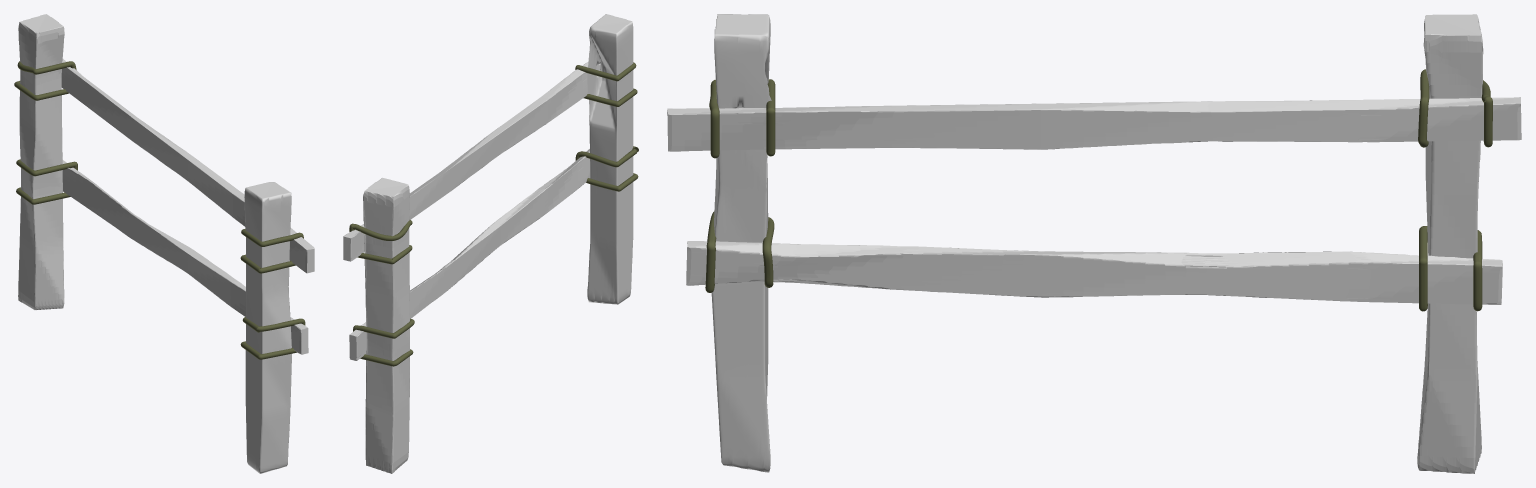
File: Blender_fence_v5.fbx
3 views of the same model, side by side, from view 1: azimuth 30°, elevation 25°; view 2: azimuth 150°, elevation 25°; view 3: azimuth 270°, elevation 25° (orthographic). The views are drawn at different scales.
Parts seen in each view (by area): view 1: Cube.003; view 2: Cube.003; view 3: Cube.003.
Boxes of the visible parts, x1,y1,x2,y2 form: Cube.003: [14, 14, 314, 473]; Cube.003: [343, 14, 638, 473]; Cube.003: [667, 14, 1521, 473].
Bounding box in the file's own units: 96.8 × 548 × 965.
